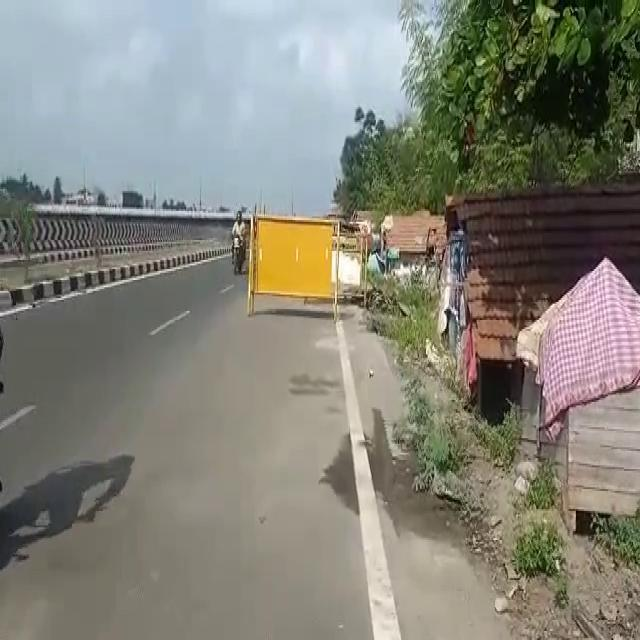fallen_object: (232, 205, 362, 343)
